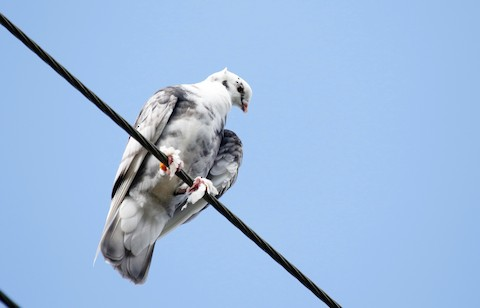pigeon: (86, 64, 261, 290)
